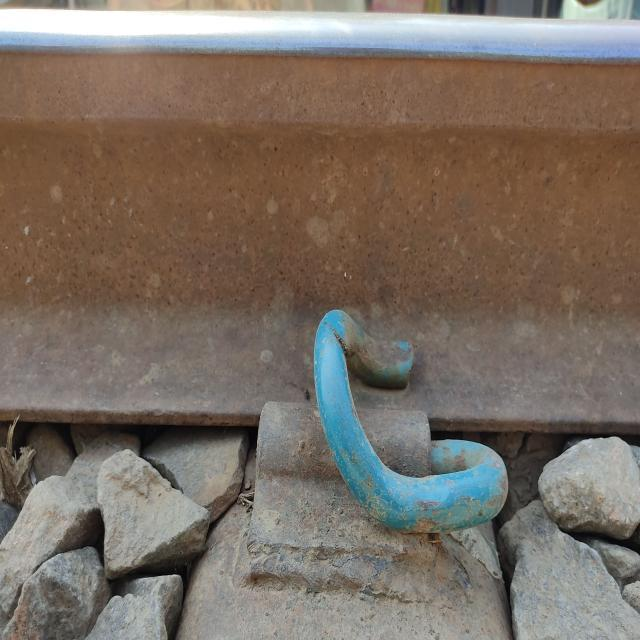Good Fasteners: (247, 310, 508, 602)
